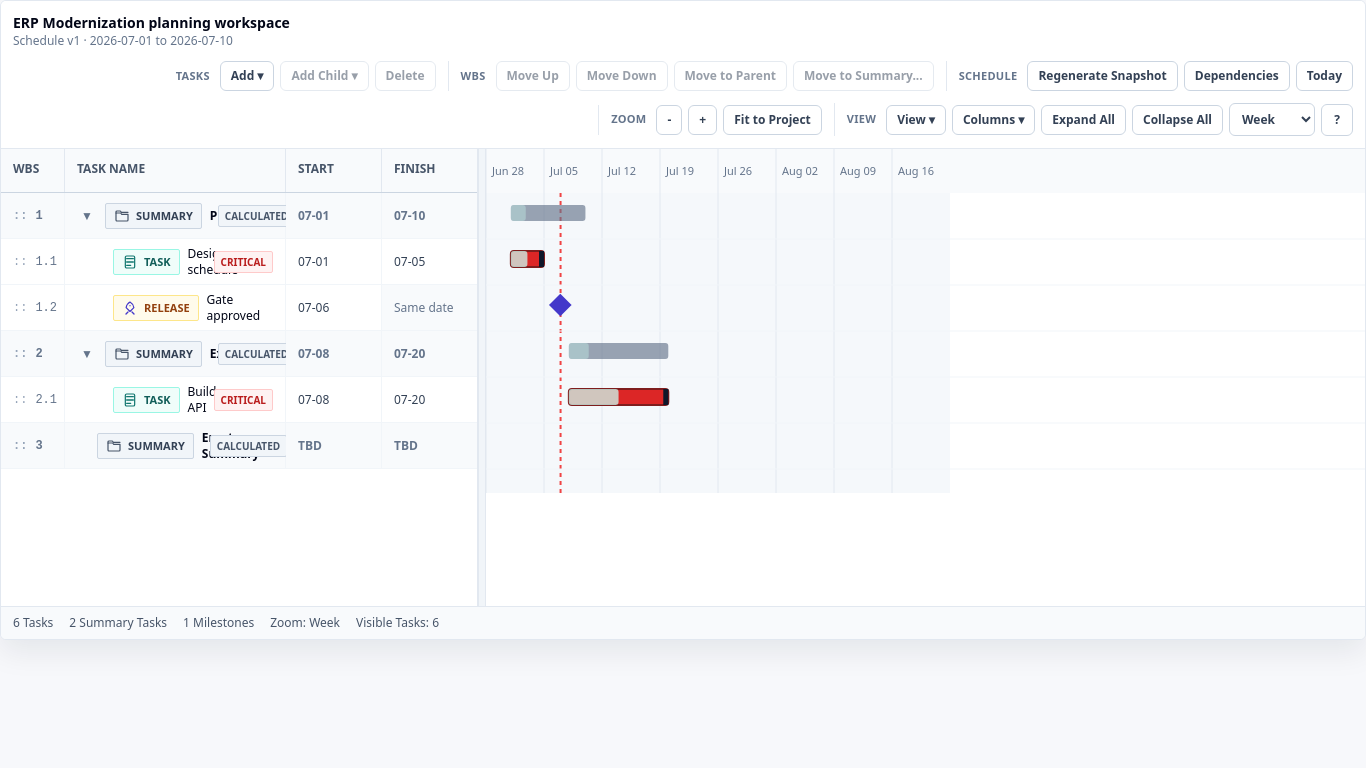
Test: PlanningWorkspace › moves a task to another summary from the toolbar action
What coordinates should you click on to do the following:
click the row named "1.1 Design schedule"
I would click on:
 (240, 262)
Its box is top-left (1, 239), bottom-right (478, 285).
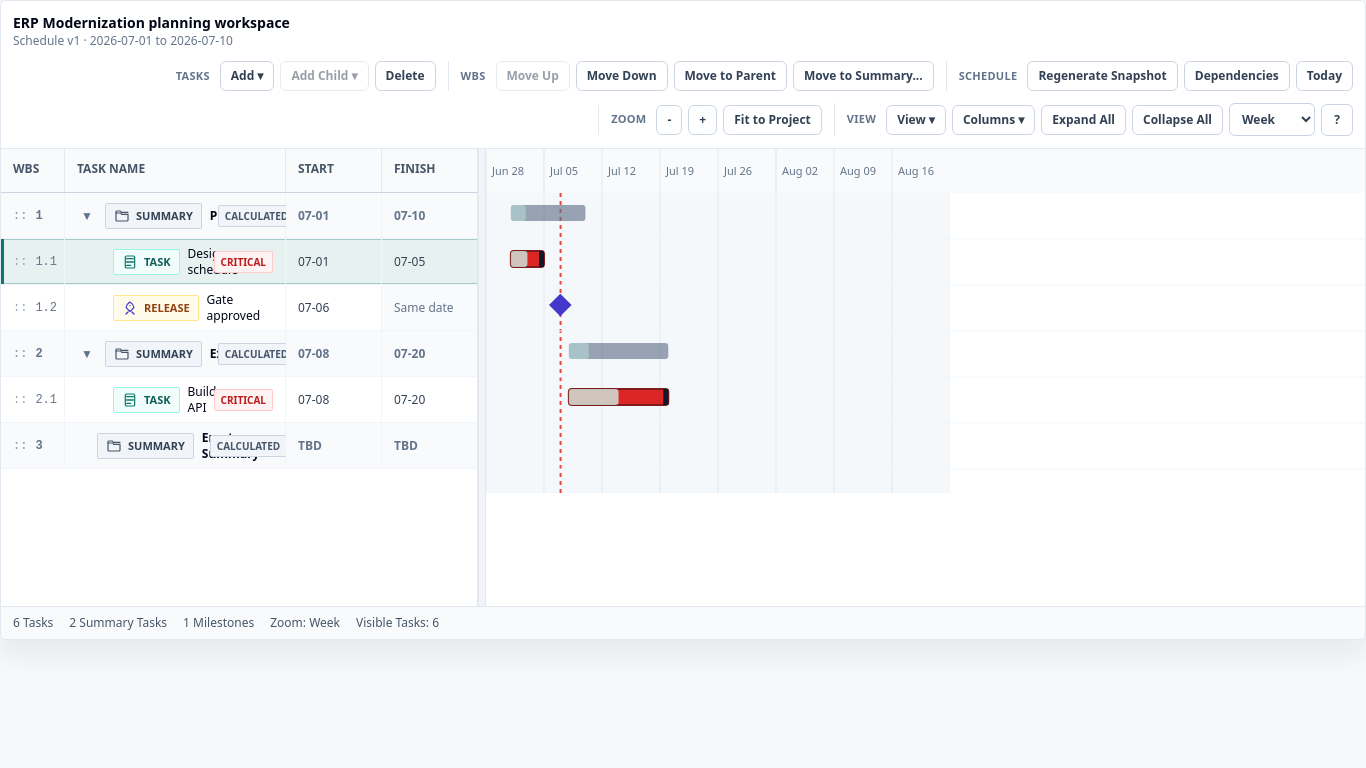
What coordinates should you click on to do the following:
click the button "Move to Summary..."
I would click on:
 (863, 76)
Its box is top-left (793, 61), bottom-right (934, 91).
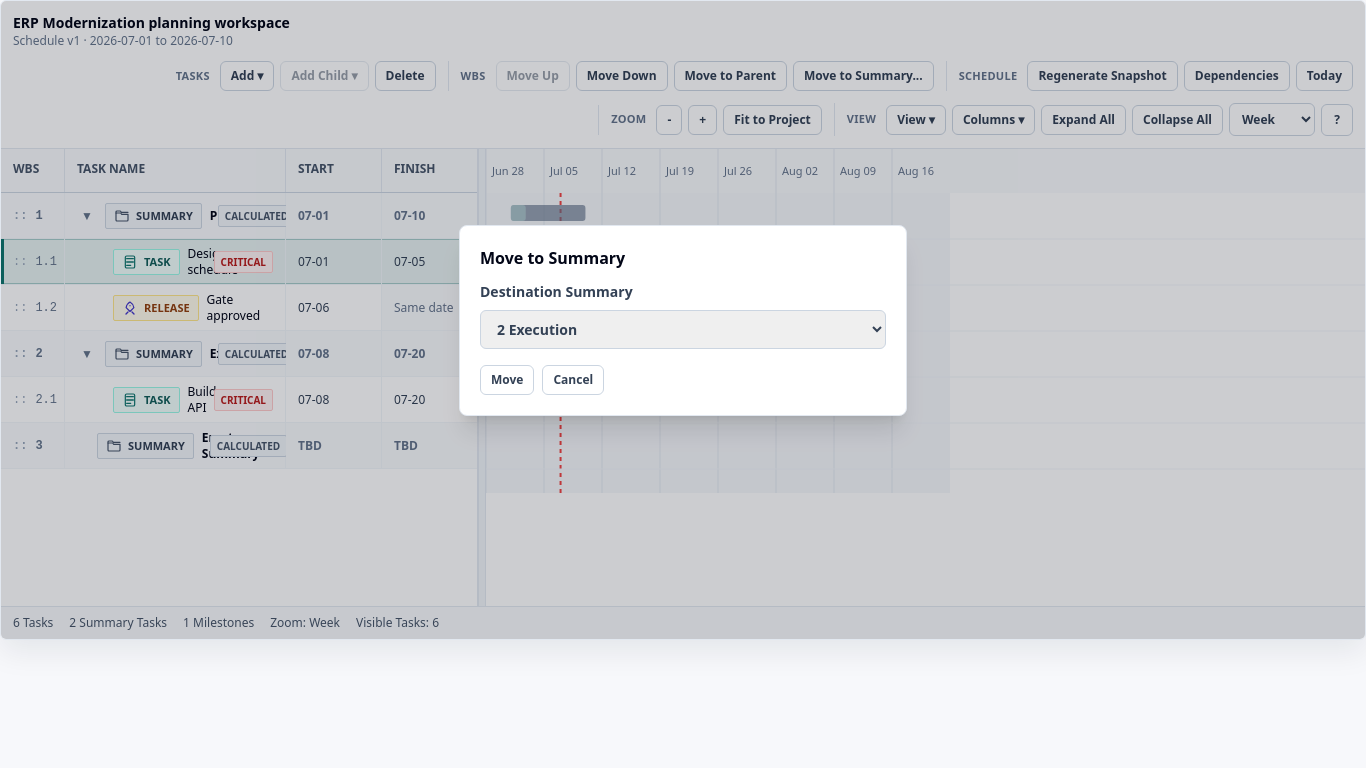
What coordinates should you click on to do the following:
click the button "Move"
I would click on:
 (507, 380)
Its box is top-left (480, 364), bottom-right (534, 394).
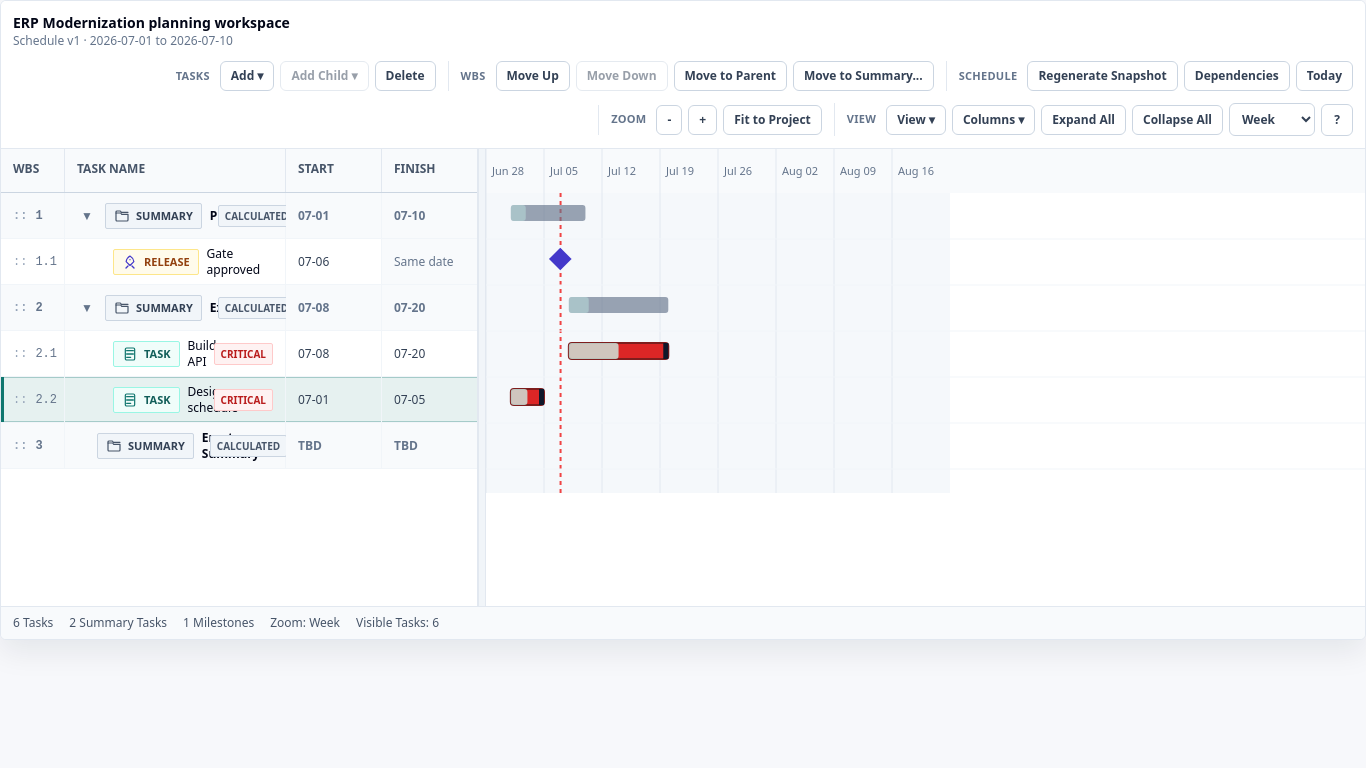
Now the row named "2.2 Design schedule" is shown, box top-left (1, 377), bottom-right (478, 423)
